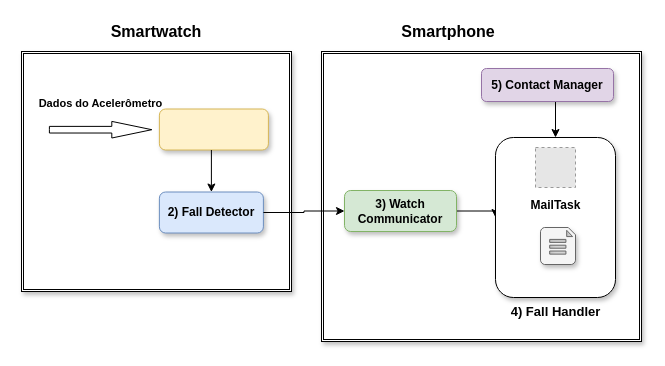
This 665x366 diagram has some shape labels left out. Grey dashed boxes stand in for pictures. The shapes that lost their labels are listed below. From the top down, each one's centre as x and y in pixels, then its label:
point 214,130: 1) Sensor Reader
point 559,247: FileM anager
